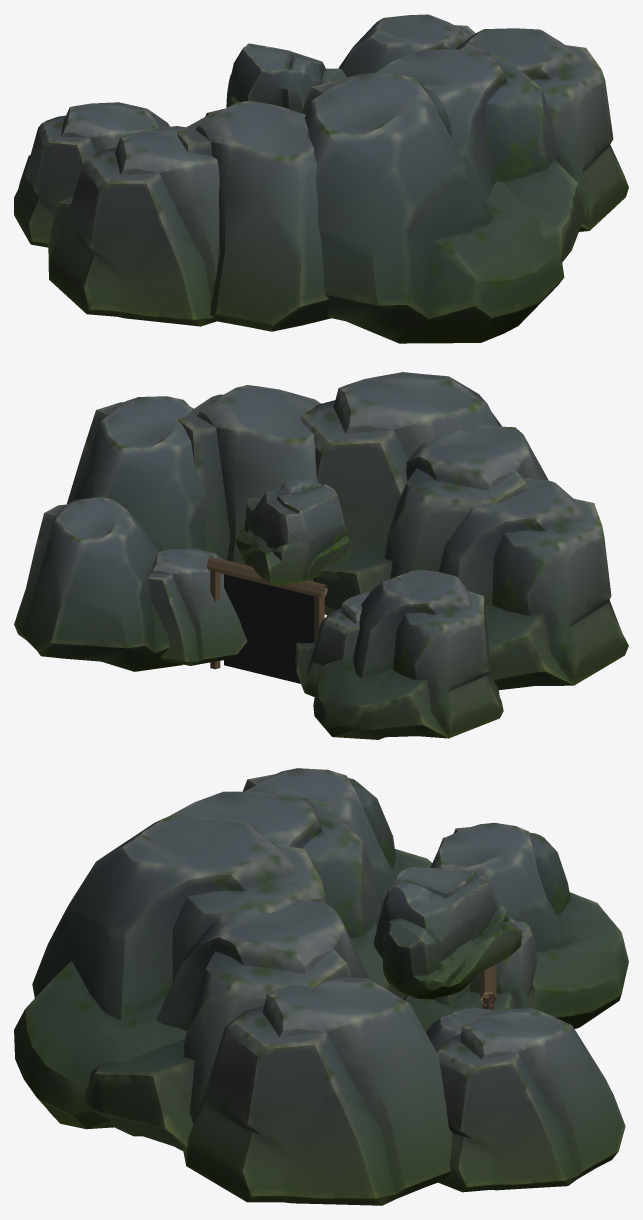
Rendered from lair_colossus.gltf.
3 views of the same model, one above another, from view 1: azimuth 30°, elevation 25°; view 2: azimuth 150°, elevation 25°; view 3: azimuth 270°, elevation 25° (orthographic). The views are drawn at different scales.
Visible parts, largest first — view 1: 87518852959993e1050fc7f2474bd1a5f55b7770b81ad0bc7ad85c610949 (×7), 8c4654b75a5b0dd366624e9b3ae860c1198466904b9672745d0dc93f6a1a; view 2: 87518852959993e1050fc7f2474bd1a5f55b7770b81ad0bc7ad85c610949 (×9), 8c4654b75a5b0dd366624e9b3ae860c1198466904b9672745d0dc93f6a1a, 6b24dc4442ef3bc89a45f6988eab8371ac8db0a61628369e35c121451edd; view 3: 87518852959993e1050fc7f2474bd1a5f55b7770b81ad0bc7ad85c610949 (×9), 8c4654b75a5b0dd366624e9b3ae860c1198466904b9672745d0dc93f6a1a, 6b24dc4442ef3bc89a45f6988eab8371ac8db0a61628369e35c121451edd.
Part boxes in pixels (x1,y1,x2,y2): 87518852959993e1050fc7f2474bd1a5f55b7770b81ad0bc7ad85c610949 (×7): (14, 14, 628, 343); 8c4654b75a5b0dd366624e9b3ae860c1198466904b9672745d0dc93f6a1a: (226, 43, 346, 113); 87518852959993e1050fc7f2474bd1a5f55b7770b81ad0bc7ad85c610949 (×9): (14, 372, 628, 739); 8c4654b75a5b0dd366624e9b3ae860c1198466904b9672745d0dc93f6a1a: (236, 479, 352, 585); 6b24dc4442ef3bc89a45f6988eab8371ac8db0a61628369e35c121451edd: (206, 557, 327, 683); 87518852959993e1050fc7f2474bd1a5f55b7770b81ad0bc7ad85c610949 (×9): (14, 768, 628, 1205); 8c4654b75a5b0dd366624e9b3ae860c1198466904b9672745d0dc93f6a1a: (373, 867, 522, 999); 6b24dc4442ef3bc89a45f6988eab8371ac8db0a61628369e35c121451edd: (480, 964, 496, 1010).
Size of the model in its own units: 15.91 by 5.8 by 13.65.
4 materials, 3 textured.
